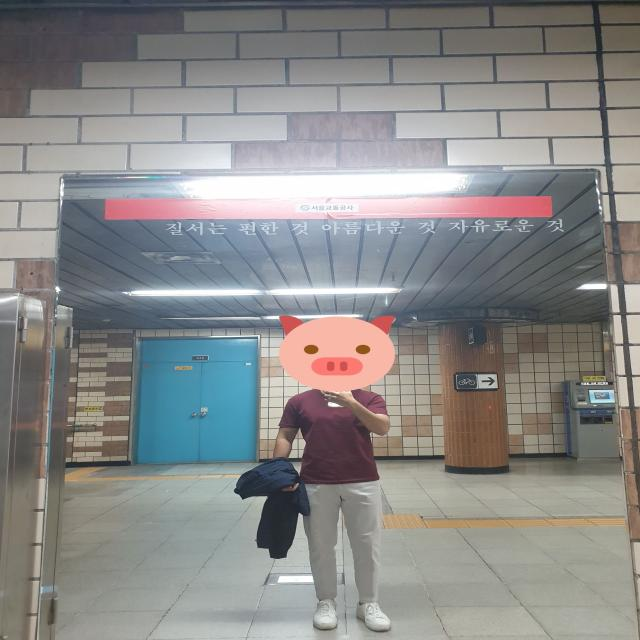cottonpants: (307, 480, 385, 604)
shortsleeve: (285, 388, 393, 484)
